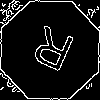R: (25, 25, 77, 81)
